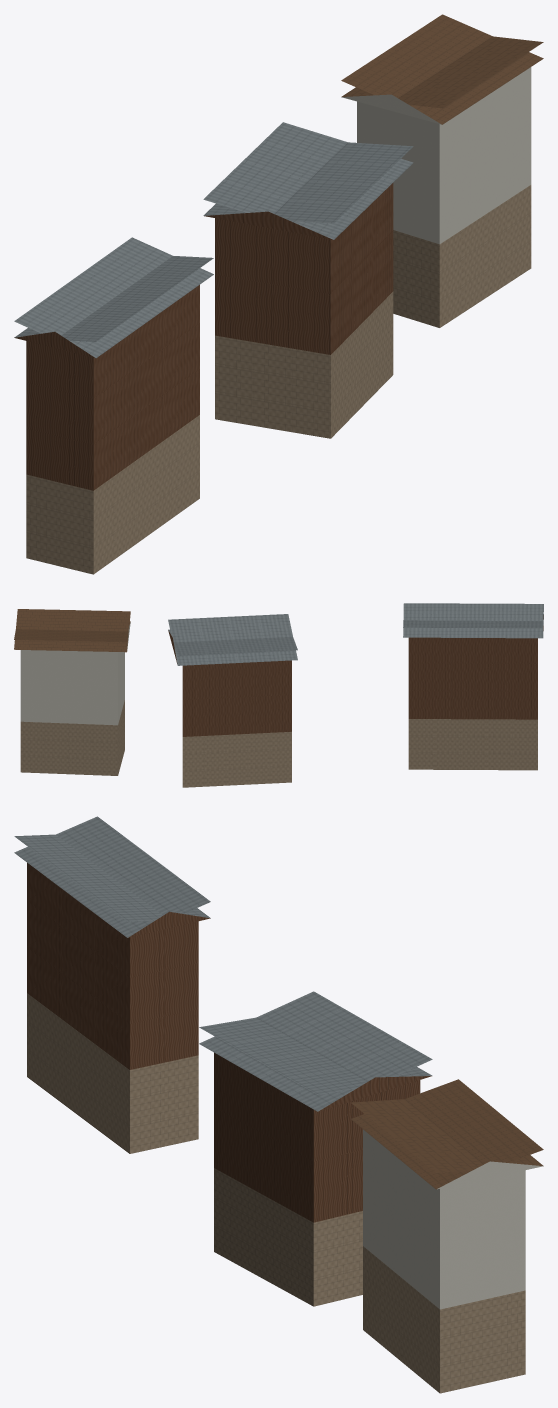
Rendered from bld_c23_30_395.gltf.
3 views of the same model, one above another, from view 1: azimuth 30°, elevation 25°; view 2: azimuth 150°, elevation 25°; view 3: azimuth 270°, elevation 25° (orthographic). The views are drawn at different scales.
Parts seen in each view (by area): view 1: bld_c23_30_395; view 2: bld_c23_30_395; view 3: bld_c23_30_395.
Part boxes in pixels (x1,y1,x2,y2): bld_c23_30_395: [14, 14, 543, 574]; bld_c23_30_395: [14, 603, 543, 787]; bld_c23_30_395: [14, 816, 543, 1393].
Bounding box in the file's own units: 44.51 × 15.3 × 29.16.
7 materials, 7 textured.
